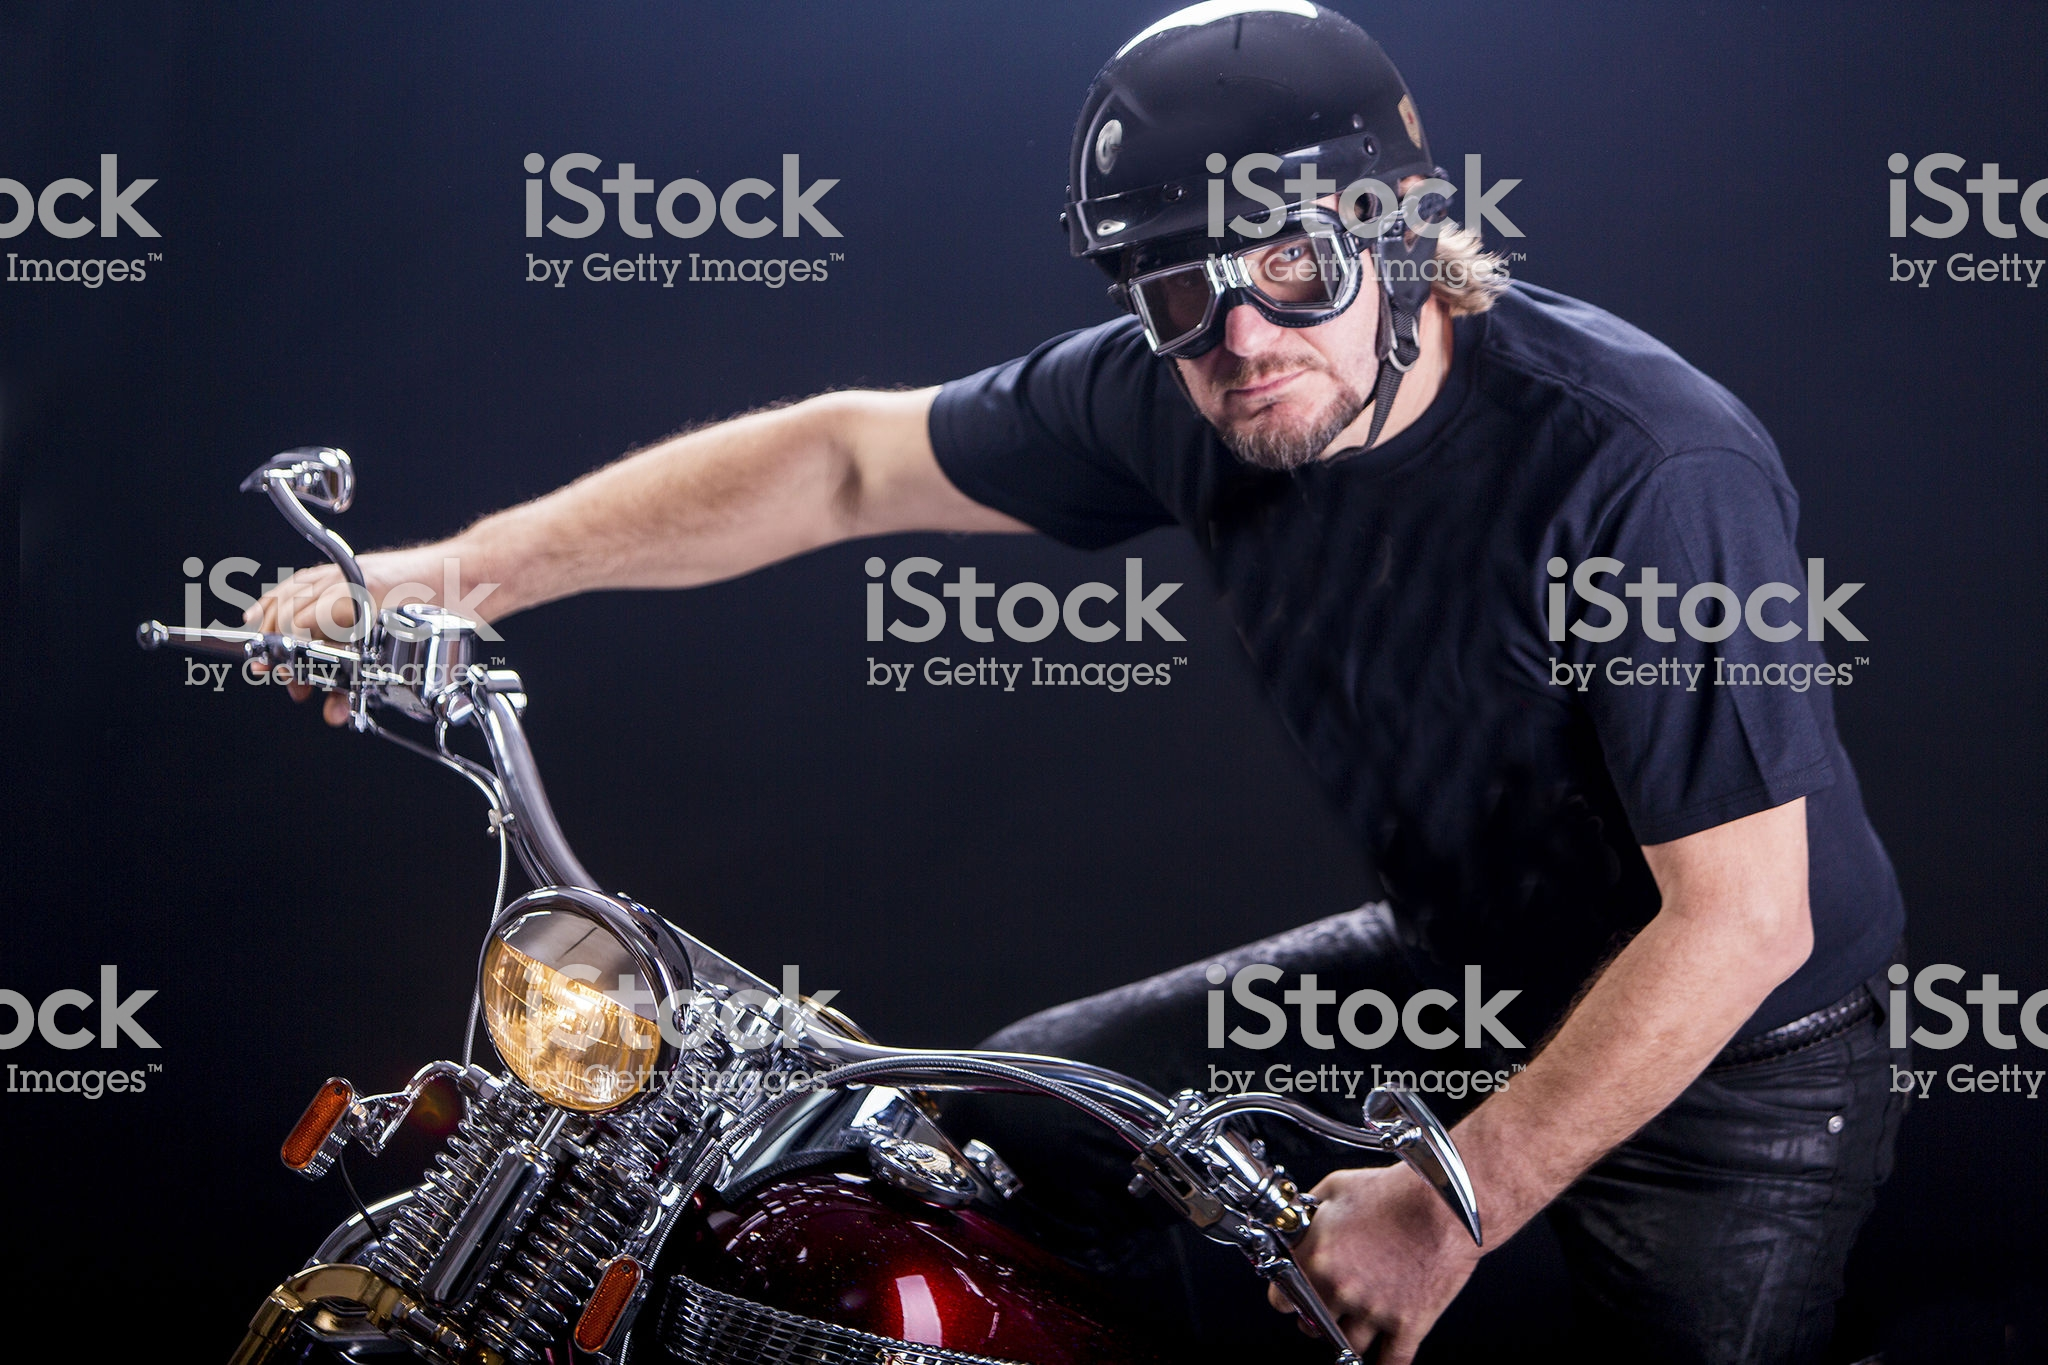helmet: (1054, 8, 1465, 283)
